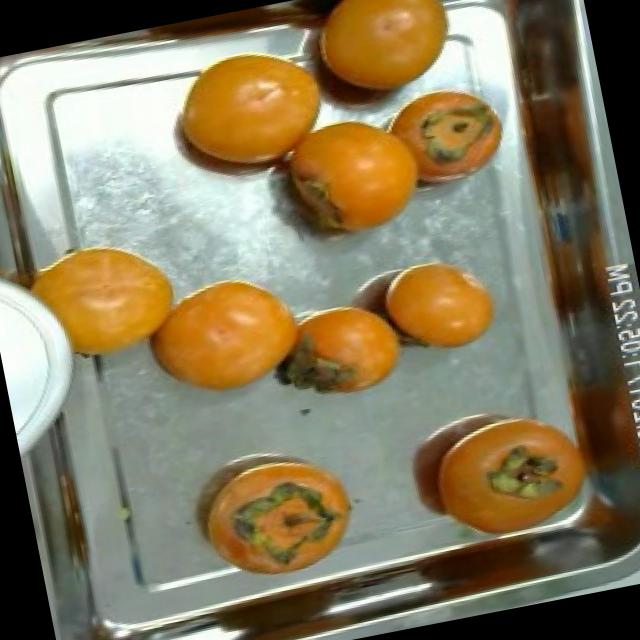Fruit: (7, 210, 210, 388), (145, 36, 354, 204), (390, 393, 608, 554), (124, 250, 322, 418), (250, 92, 443, 260), (184, 433, 372, 594), (278, 0, 484, 121), (364, 62, 528, 207), (358, 240, 512, 374), (264, 292, 422, 416)
